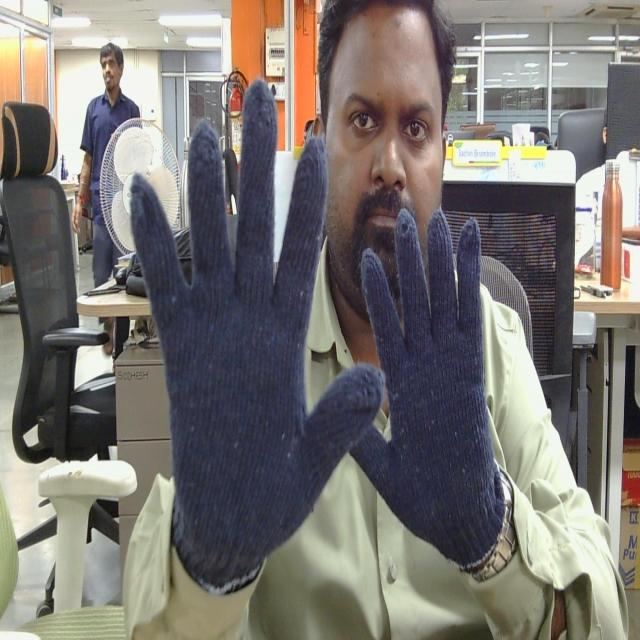Gloves-Detection: (128, 70, 384, 587), (351, 197, 515, 561)
